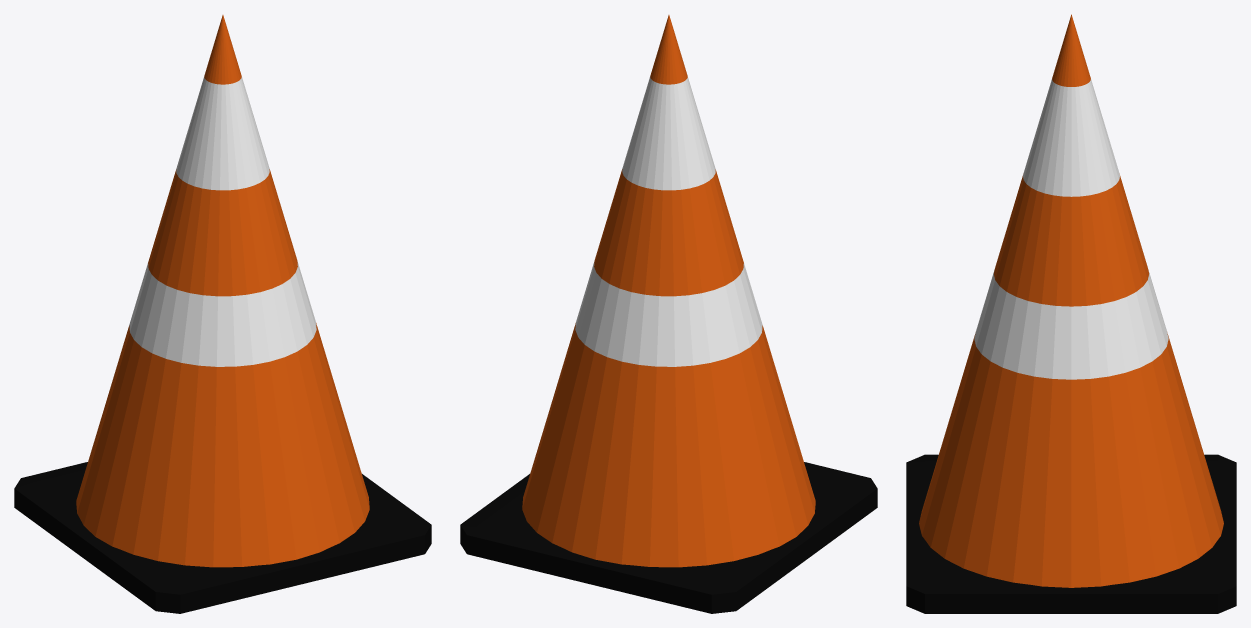
The model's file is traffic cone.fbx.
The picture shows the model from 3 angles, left to right: view 1: azimuth 30°, elevation 25°; view 2: azimuth 150°, elevation 25°; view 3: azimuth 270°, elevation 25°; orthographic projection. The views are drawn at different scales.
Visible parts, largest first — view 1: Cone, Cube; view 2: Cone, Cube; view 3: Cone, Cube.
Part boxes in pixels (bbox=[...]): Cone: bbox=[76, 15, 369, 567]; Cube: bbox=[14, 462, 431, 613]; Cone: bbox=[522, 15, 815, 567]; Cube: bbox=[460, 462, 877, 613]; Cone: bbox=[919, 14, 1223, 587]; Cube: bbox=[906, 454, 1236, 613].
Size of the model in its own units: 212 by 377 by 212.
